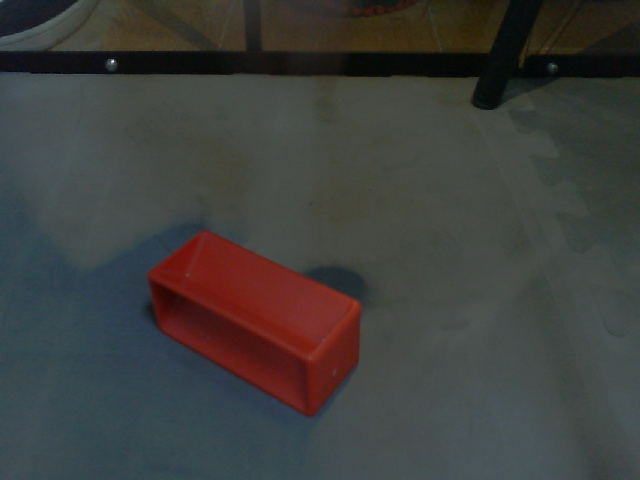RedSample: (143, 226, 366, 421)
